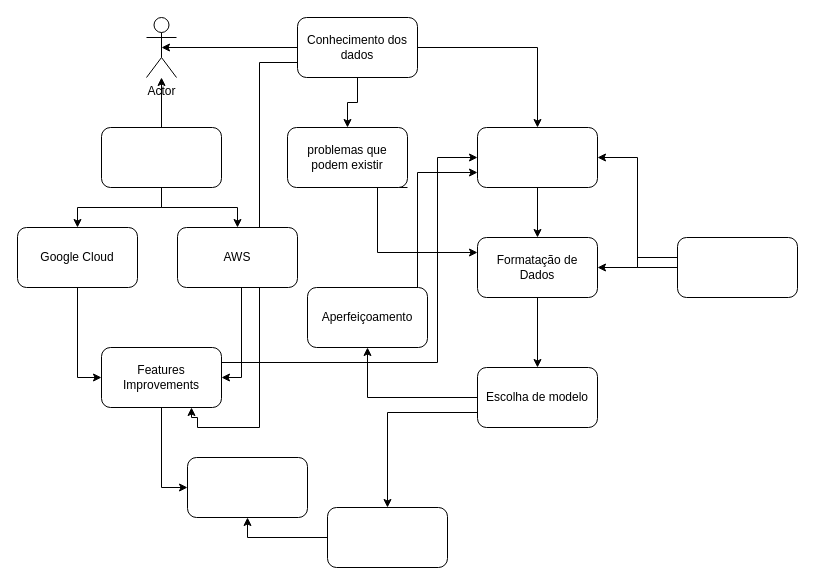
Image size: 815x585. Some labels were removed from this diagram. The shapes that lost their labels are listed below. From the top down, each one's box as (x1, y1, x2, y2) in pixels, then its label:
(100, 126, 222, 188): Disponibilização
(476, 126, 598, 188): processamento de váriaveis
(676, 236, 798, 298): Limpeza de dados
(186, 456, 308, 518): Modelo de serviço
(326, 506, 448, 568): Analise e avaliação de resultados
